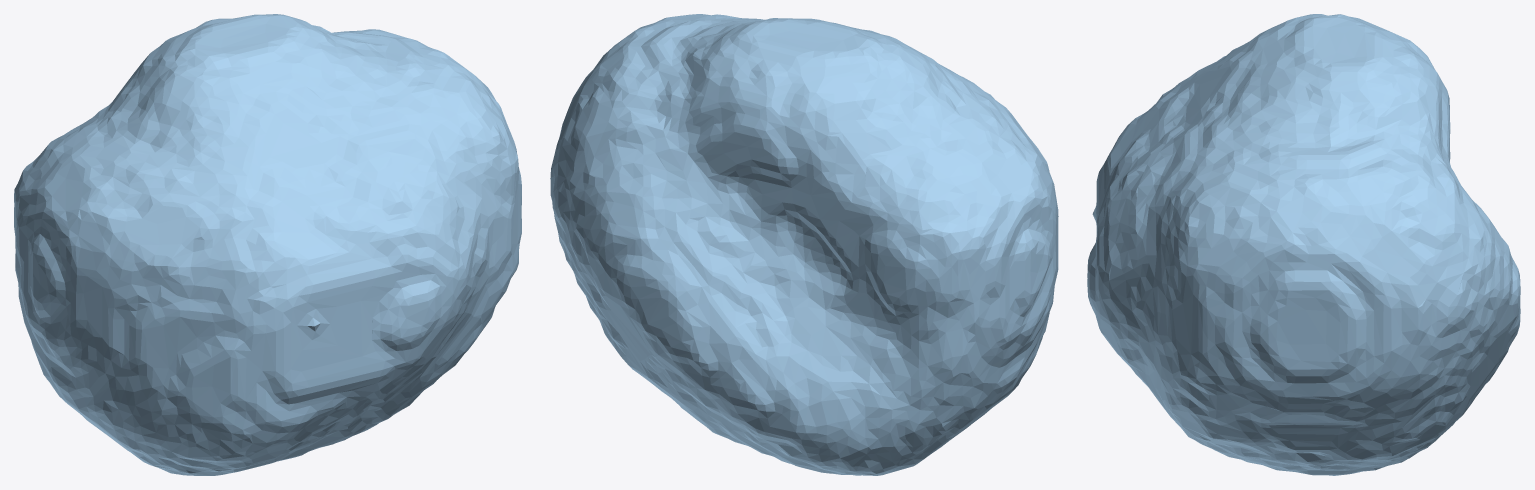
The picture shows the model from 3 angles, left to right: view 1: azimuth 30°, elevation 25°; view 2: azimuth 150°, elevation 25°; view 3: azimuth 270°, elevation 25°; orthographic projection. The views are drawn at different scales.
Visible parts, largest first — view 1: world; view 2: world; view 3: world.
Part boxes in pixels (<box>): world: <box>14,14,521,475</box>; world: <box>550,14,1058,475</box>; world: <box>1087,14,1520,475</box>.
Bounding box in the file's own units: 0.9406 × 0.8157 × 0.769.
